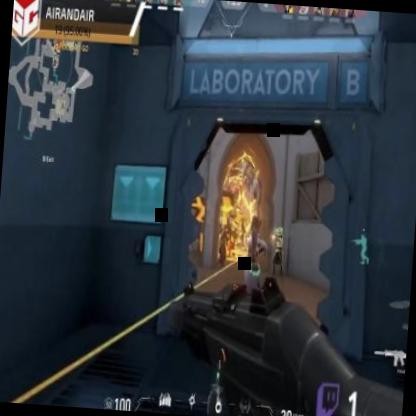enemy: (270, 228, 286, 276), (219, 226, 228, 266), (217, 230, 227, 262), (238, 212, 248, 242)
enemy_head: (277, 228, 282, 238), (221, 230, 225, 238), (223, 224, 227, 230), (242, 212, 245, 219)
